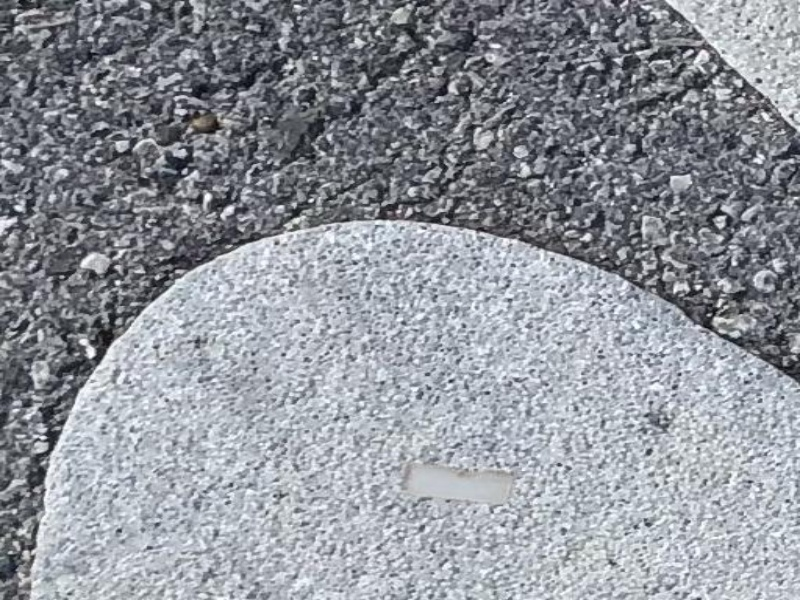cig: (397, 450, 536, 523)
